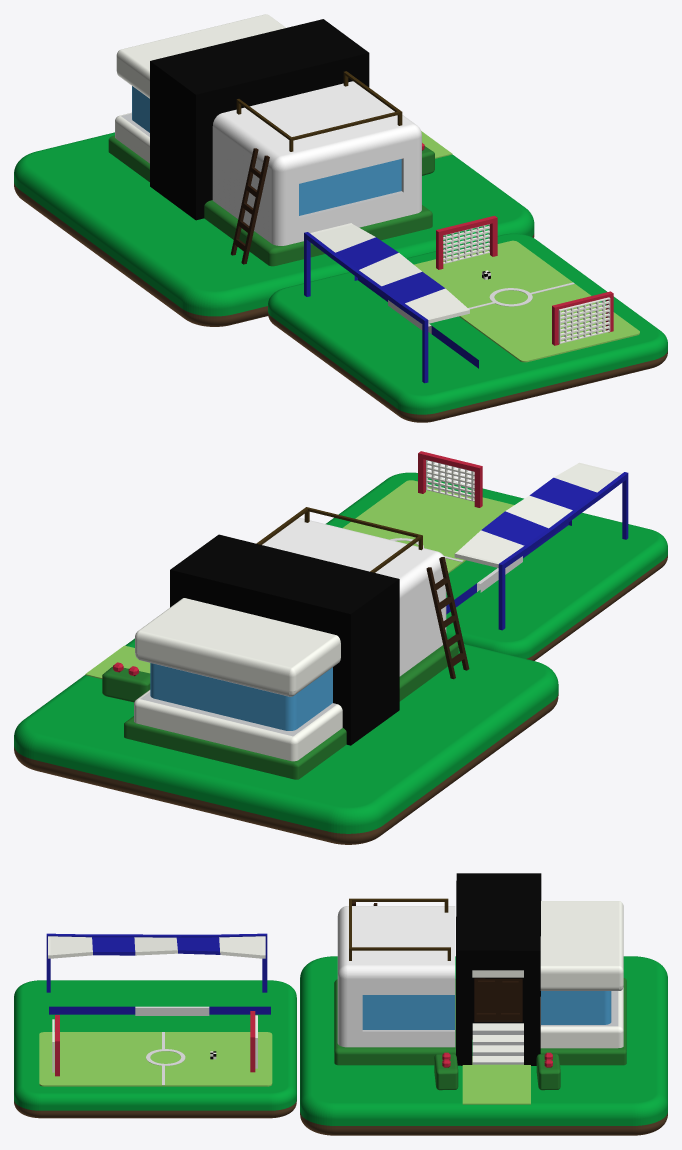
Rendered from islandAspan1.glb.
3 renders of one model, top to bottom at view 1: azimuth 30°, elevation 25°; view 2: azimuth 150°, elevation 25°; view 3: azimuth 270°, elevation 25°, orthographic. The views are drawn at different scales.
Visible parts, largest first — view 1: Island.001, Island, Left2, Black main, Football field.001, Tribuns.001, Right2, Grassleft, Gates2.001, Gates.001, Stair, Fence (+3 smaller); view 2: Island.001, Black main, Island, Right2, Left2, Tribuns.001, GlassRight, Football field.001, GrassRight, Gates2.001, Stair, Grassleft (+4 smaller); view 3: Island.001, Island, Left2, Black main, Football field.001, Right2, Tribuns.001, Plane, GlassRight, Grassleft, Stairs, Shiled.001 (+7 smaller).
Part boxes in pixels (x1,y1,x2,y2): Island.001: (14, 132, 534, 326); Island: (268, 233, 667, 422); Left2: (212, 81, 421, 245); Black main: (150, 19, 369, 220); Football field.001: (414, 240, 639, 362); Tribuns.001: (304, 223, 469, 383); Right2: (115, 14, 285, 163); Grassleft: (204, 200, 432, 266); Gates2.001: (552, 291, 613, 345); Gates.001: (436, 215, 497, 269); Stair: (231, 148, 269, 264); Fence: (236, 71, 402, 151); Island.001: (14, 638, 558, 844); Black main: (170, 534, 399, 745); Island: (326, 472, 667, 660); Right2: (134, 598, 342, 761); Left2: (262, 518, 446, 676); Tribuns.001: (454, 462, 628, 630); GlassRight: (150, 663, 332, 730); Football field.001: (342, 480, 514, 573); GrassRight: (124, 716, 346, 779); Gates2.001: (418, 451, 482, 507); Stair: (426, 557, 469, 679); Grassleft: (399, 639, 458, 701); Island.001: (300, 956, 667, 1135); Island: (14, 980, 296, 1118); Left2: (337, 906, 455, 1047); Black main: (456, 873, 541, 1065); Football field.001: (39, 1032, 272, 1086); Right2: (540, 901, 623, 1048); Tribuns.001: (46, 933, 267, 992); Plane: (462, 1056, 530, 1104); GlassRight: (541, 991, 611, 1024); Grassleft: (334, 979, 455, 1065); Stairs: (472, 1023, 523, 1064); Shiled.001: (49, 1006, 270, 1015).
Bounding box in the file's own units: 6 × 2.64 × 10.67.
